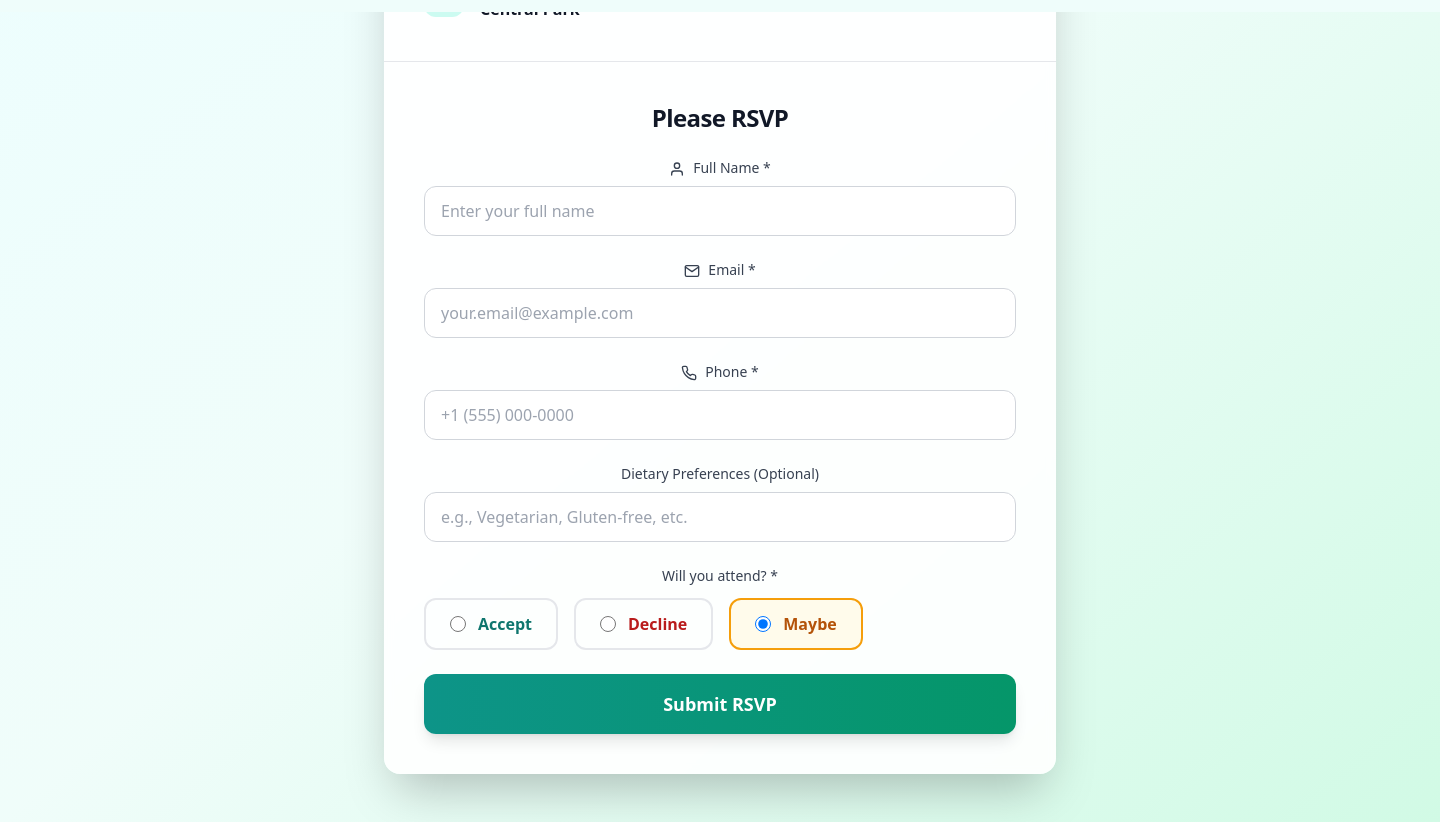
Test: InvitePage Component › Form Interaction › should change RSVP status to Declined
The image size is (1440, 822).
(page scrolled)
Step 1. Click the radio button labelled "Decline" → (608, 624), box [600,616,616,632]
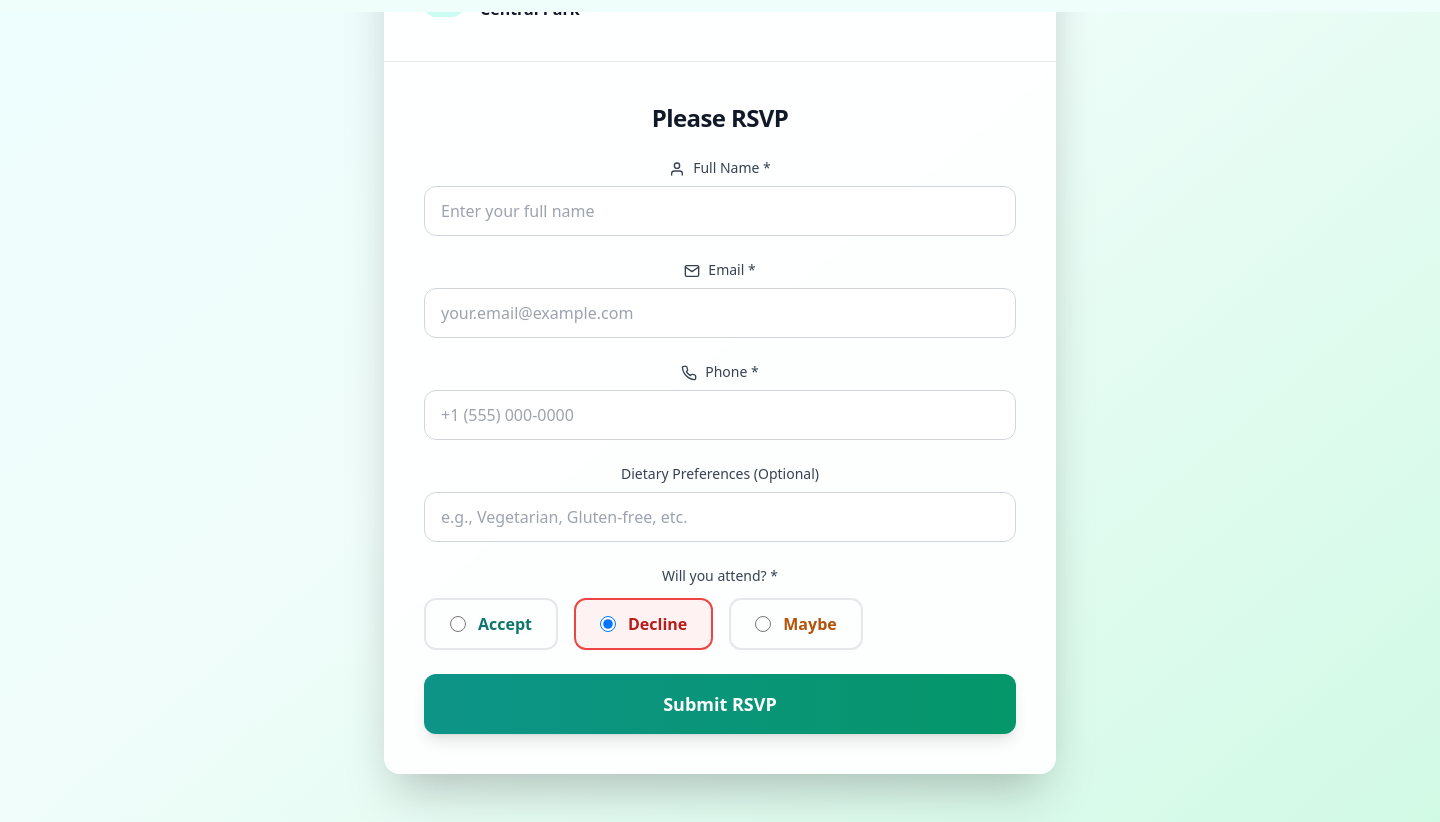
Check: the radio button labelled "Accept" is not checked, box [450,616,466,632]
Check: the radio button labelled "Decline" is checked, box [600,616,616,632]
Check: the radio button labelled "Maybe" is not checked, box [755,616,771,632]
